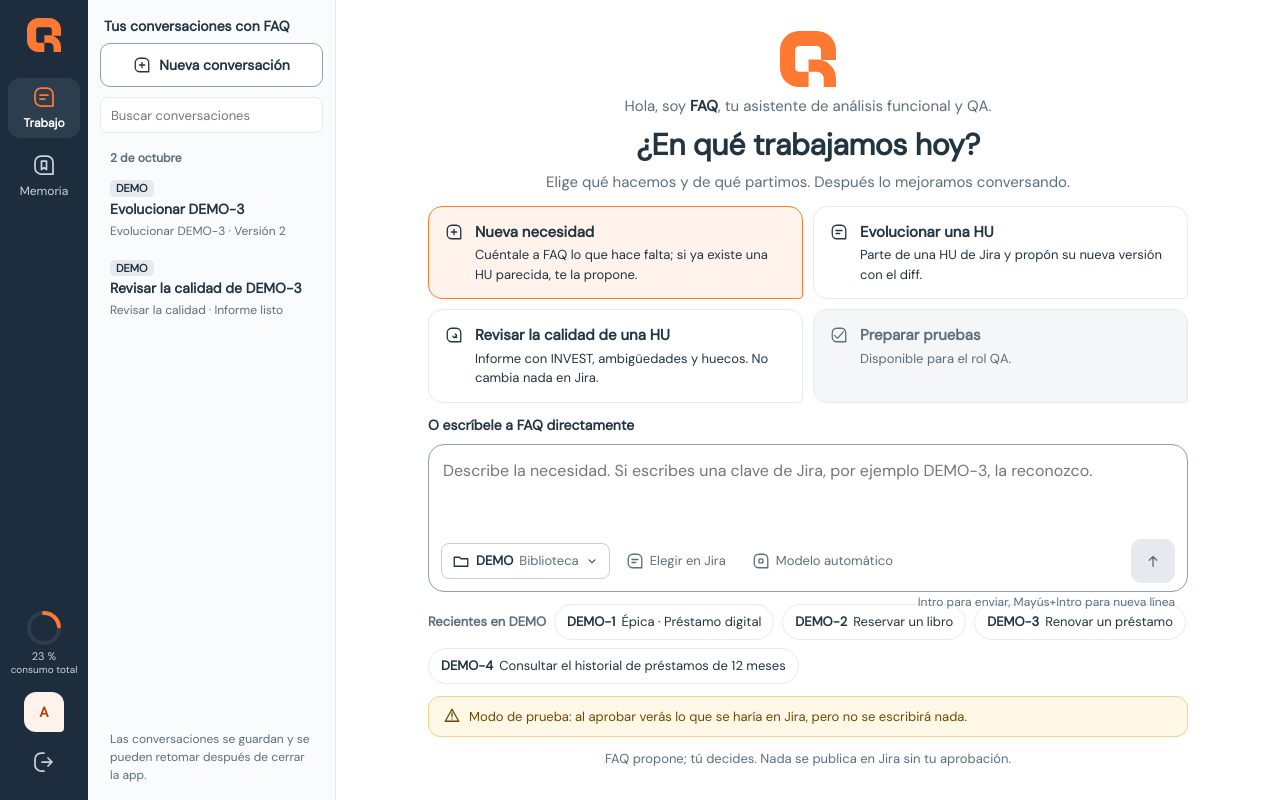
Generando (Mixta 2b, UI.md §4.4) › una conversación en estado error al consultar muestra su error
Check: the button with aria-label "Proyecto de Jira: DEMO" is shown, box [441, 543, 610, 579]
Type "Renovar un préstamo desde la app" into the text box at [808, 495], box [441, 457, 1175, 533]
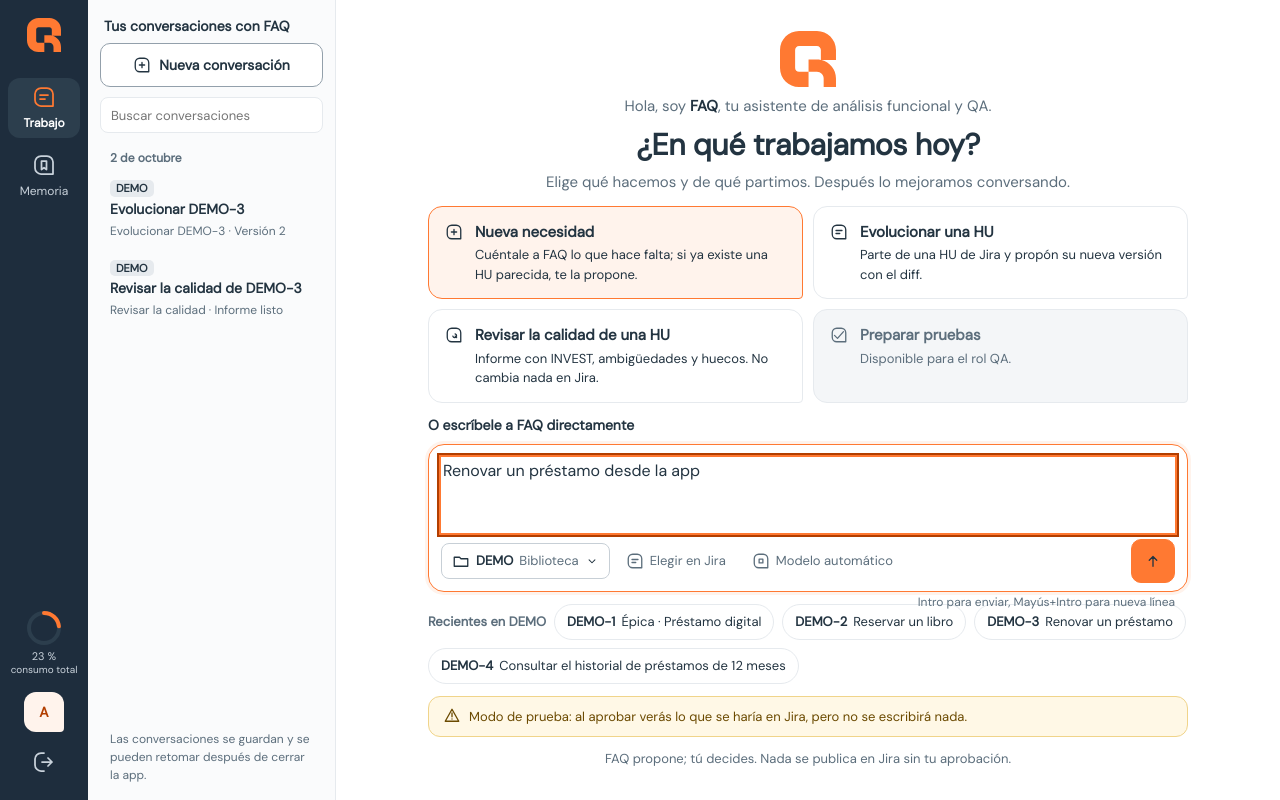
Click the button named "Continuar" at [1153, 561], box [1131, 539, 1175, 583]
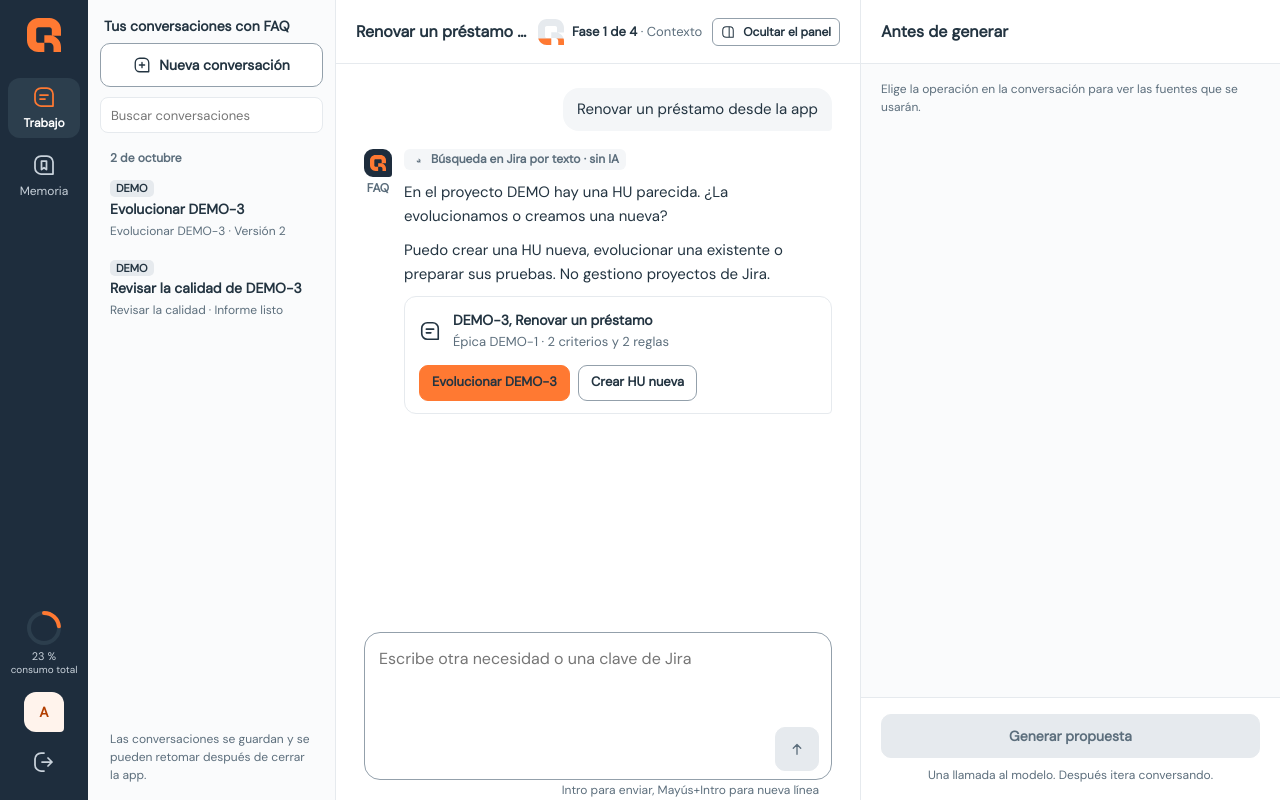
Click the button "Evolucionar DEMO-3" at [494, 383], box [419, 365, 570, 401]
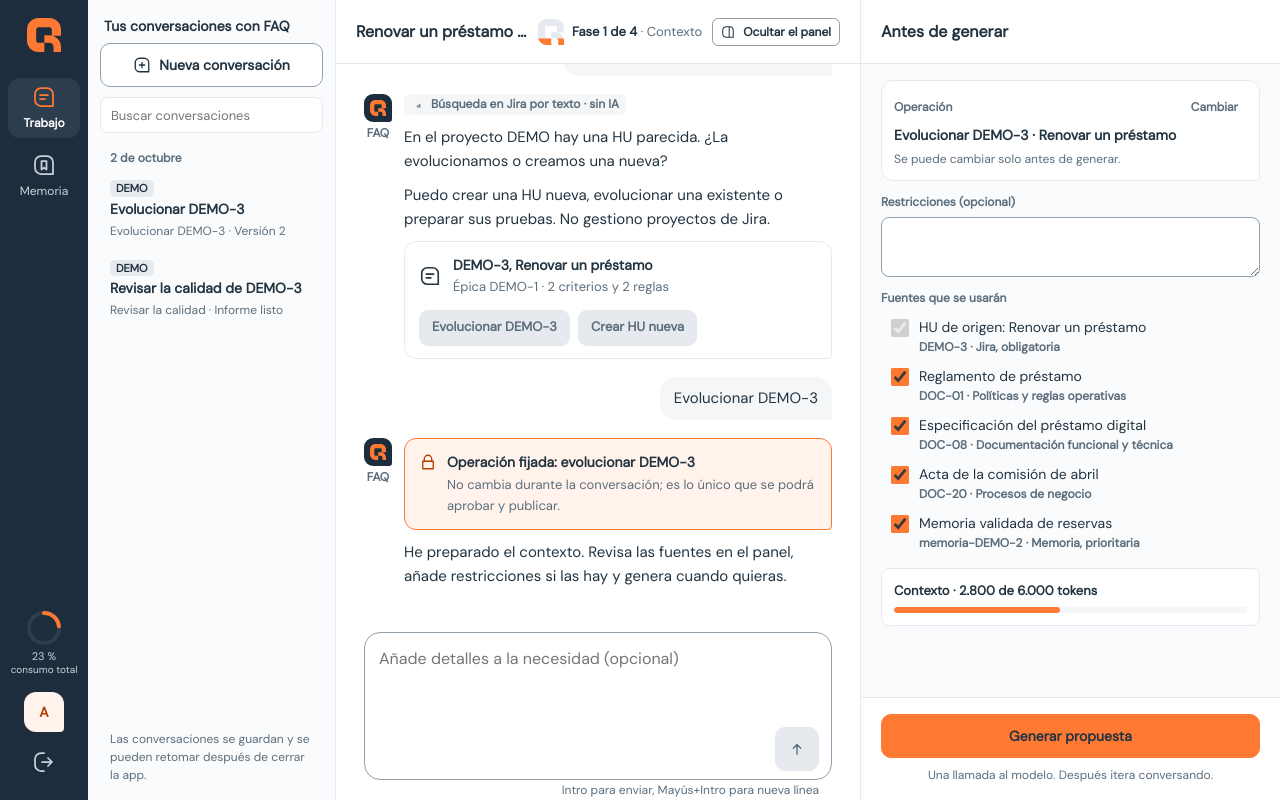
Check: the checkbox labelled "HU de origen: Renovar un préstamo DEMO-3 · Jira, obligatoria" is shown, box [891, 319, 909, 337]
Click the button "Generar propuesta" at [1070, 736], box [881, 714, 1260, 758]
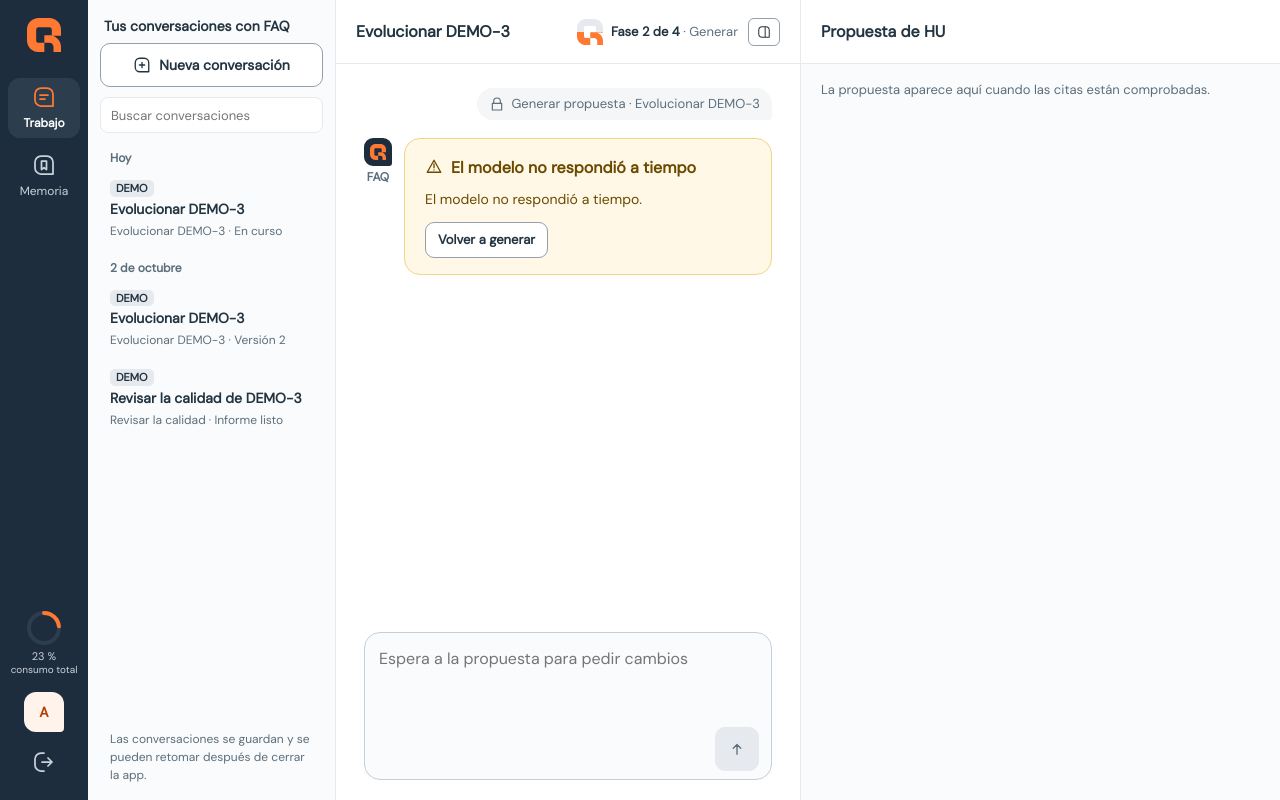
Check: the picture named "Avance: fase 2 de 4, Generar" is shown, box [577, 18, 738, 44]
Check: the heading "El modelo no respondió a tiempo" is shown, box [425, 154, 696, 180]
